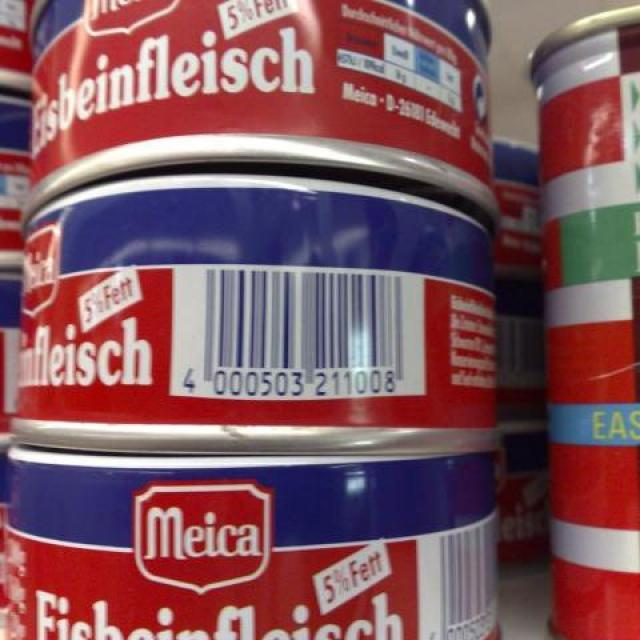Barcode: (171, 263, 425, 401)
